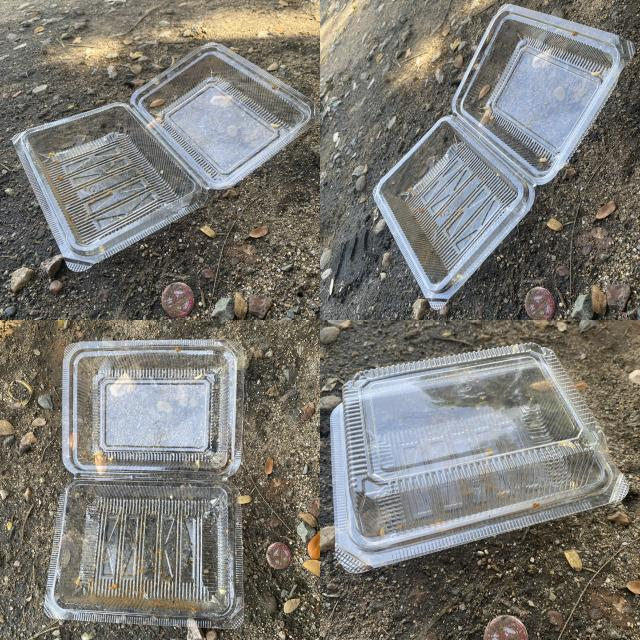Single-Use-Plastic: (374, 5, 634, 309), (12, 44, 314, 271), (331, 344, 628, 572), (45, 340, 244, 628)
